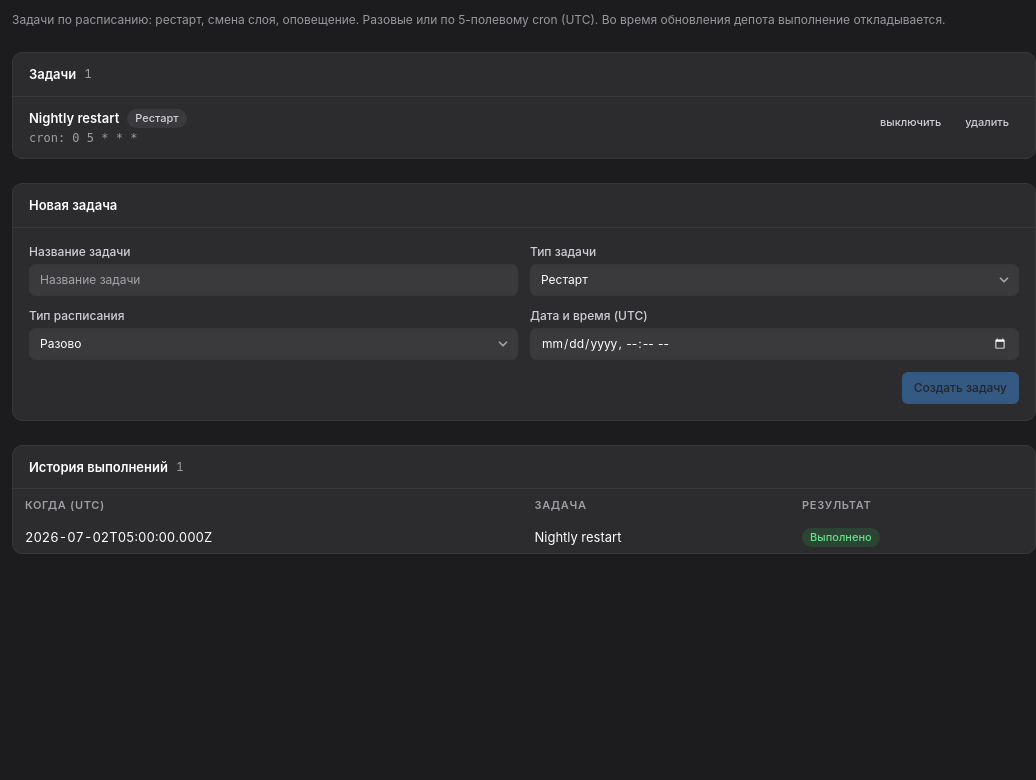
Scenario: SchedulePage › rejects an invalid cron expression in the recurring mode
Expected: the list with test id "scheduled-tasks-list" is shown, [29,109,1019,145]
Type "Cron task" into the field with placeholder "Название задачи" at {"x": 274, "y": 280}, box [29,264,518,296]
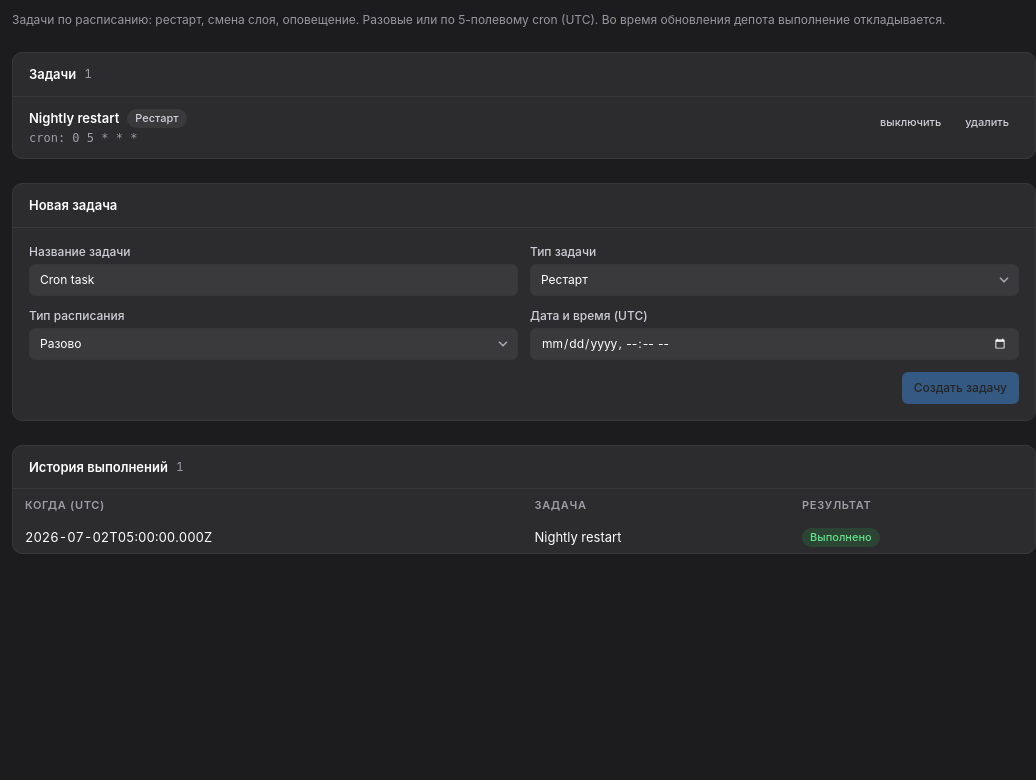
Select "По расписанию (cron)" in the dropdown labelled "Тип расписания" at {"x": 274, "y": 344}, box [29,328,518,360]
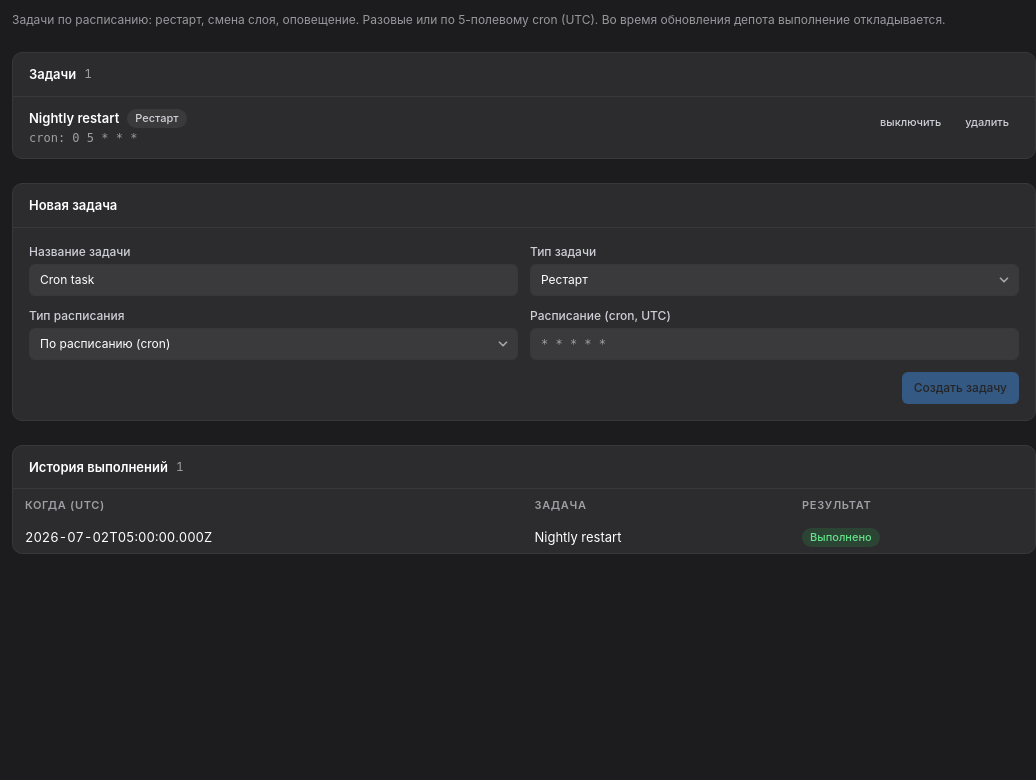
Type "not a cron" into the field with placeholder "* * * * *" at {"x": 774, "y": 344}, box [530,328,1019,360]
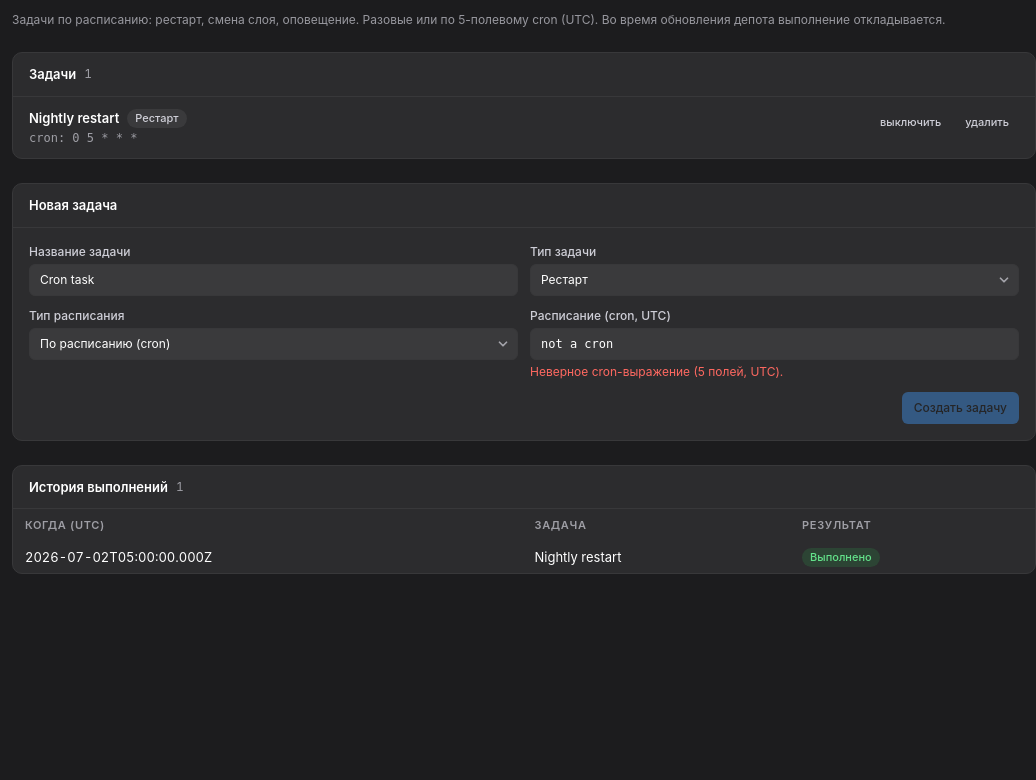
Expected: the button "Создать задачу" is disabled, [902,392,1019,424]
Replace the text in the field with placeholder "* * * * *" with "0 5 * * *" at {"x": 774, "y": 344}, box [530,328,1019,360]
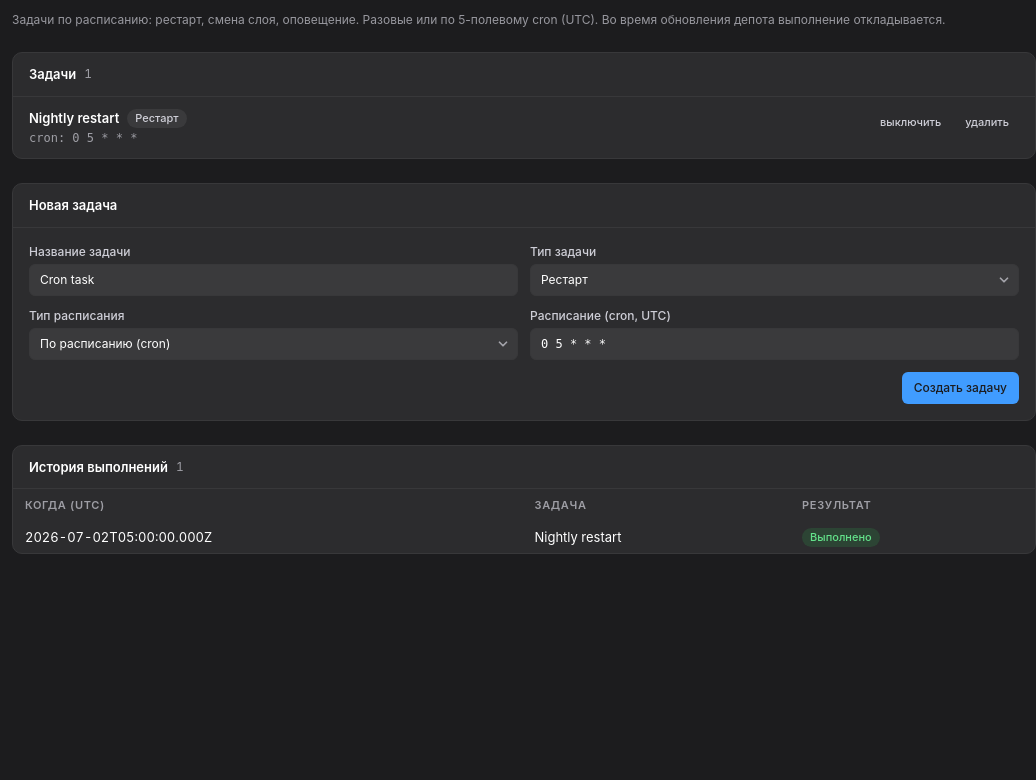
Now the button "Создать задачу" is enabled, box [902,372,1019,404]
